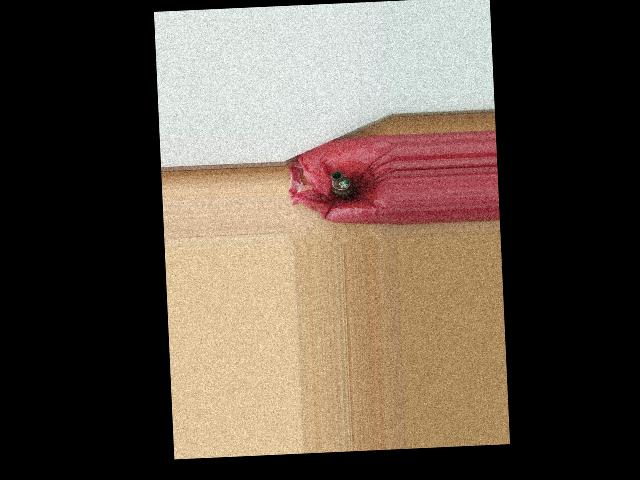beer: (330, 170, 355, 201)
